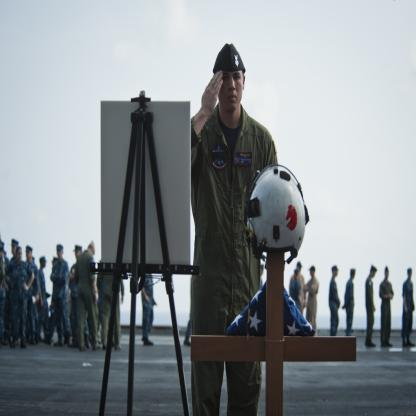Helmet: (246, 166, 310, 272)
